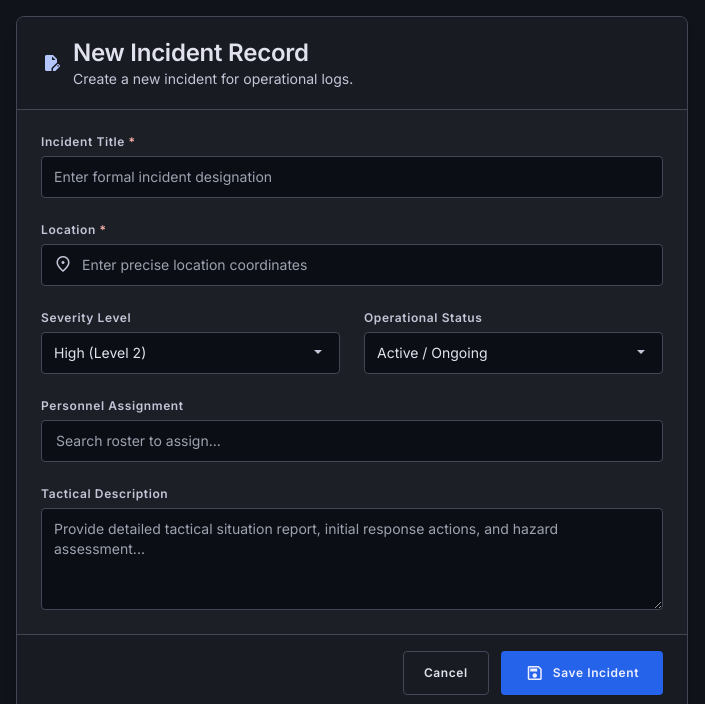
NewIncidentReport › allows adding and removing personnel assignments
Type "Unit Alpha" into the field with placeholder "Search roster to assign..." at (352, 441), box [48,427,656,455]
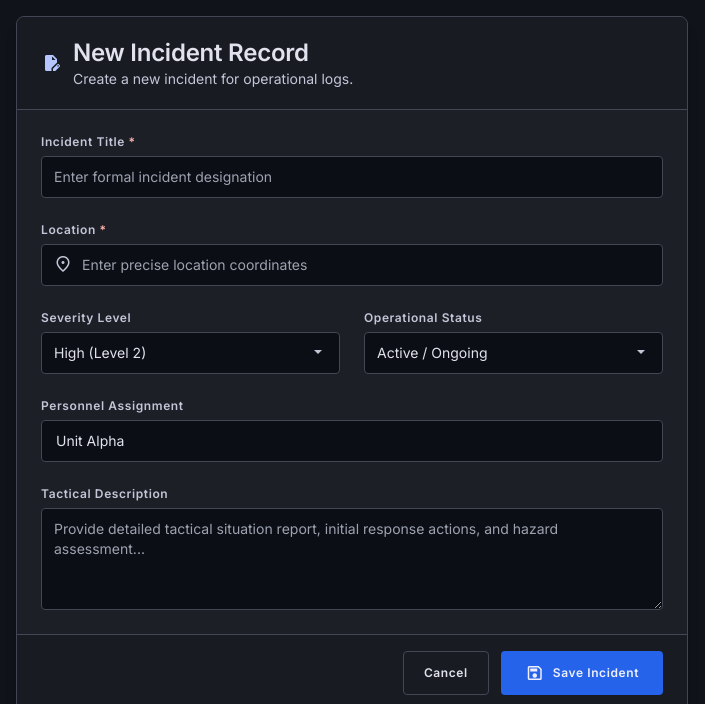
Press Enter in the field with placeholder "Search roster to assign...", box [48,427,656,455]
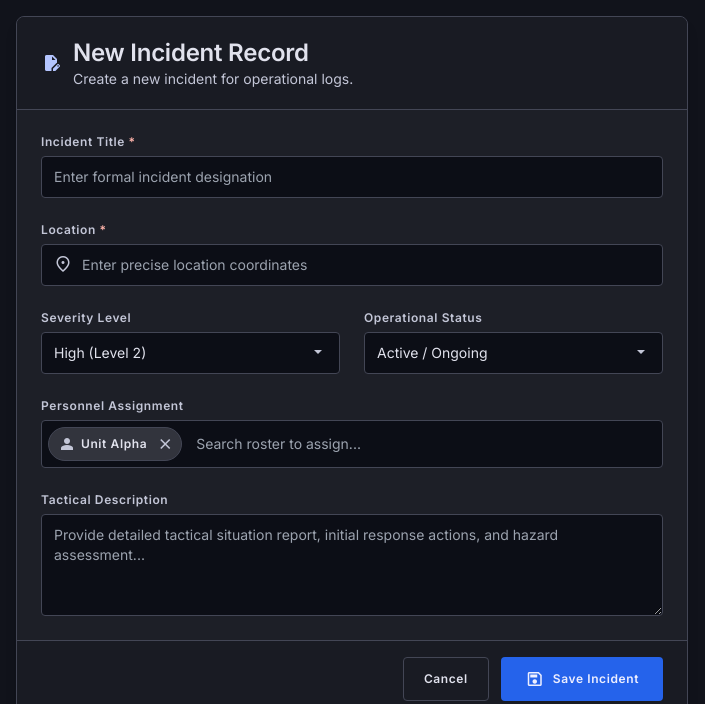
Now the text "Unit Alpha" is shown, box [81,436,147,452]
Click the button named "Remove Unit Alpha" at (165, 444), box [153,432,177,456]
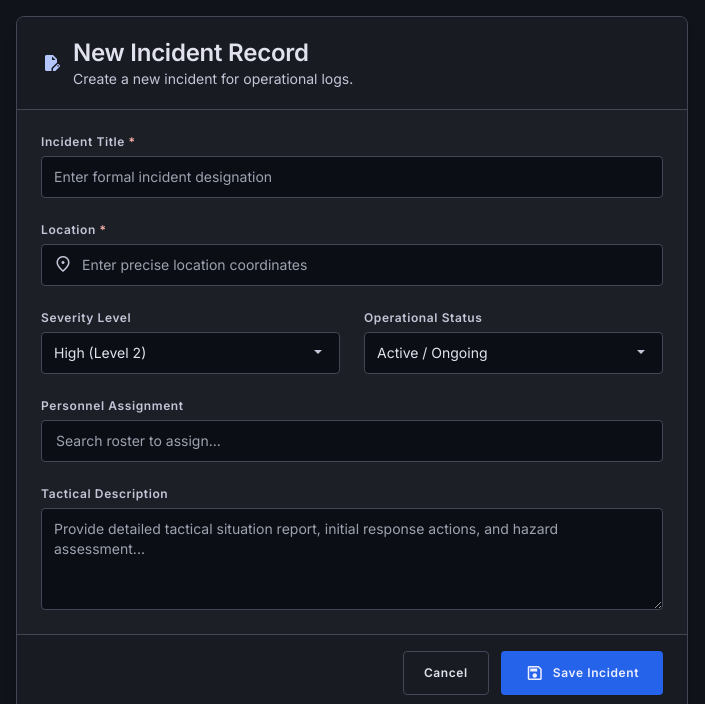
Now the text "Unit Alpha" is gone
